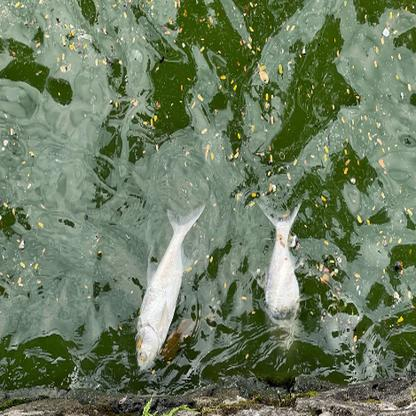deceased fish: (132, 203, 207, 371), (254, 201, 307, 351)
